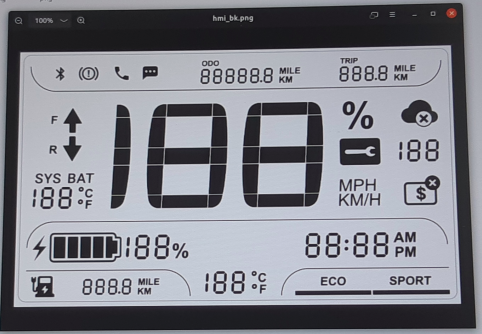bluetooth_on: (52, 65, 68, 82)
braking_on: (77, 64, 101, 82)
calling_on: (112, 64, 132, 81)
connection_lost: (399, 98, 441, 130)
error_code: (338, 136, 383, 167)
low_battery: (29, 274, 57, 299)
sms_on: (140, 63, 160, 82)
vin_id: (402, 174, 443, 207)
